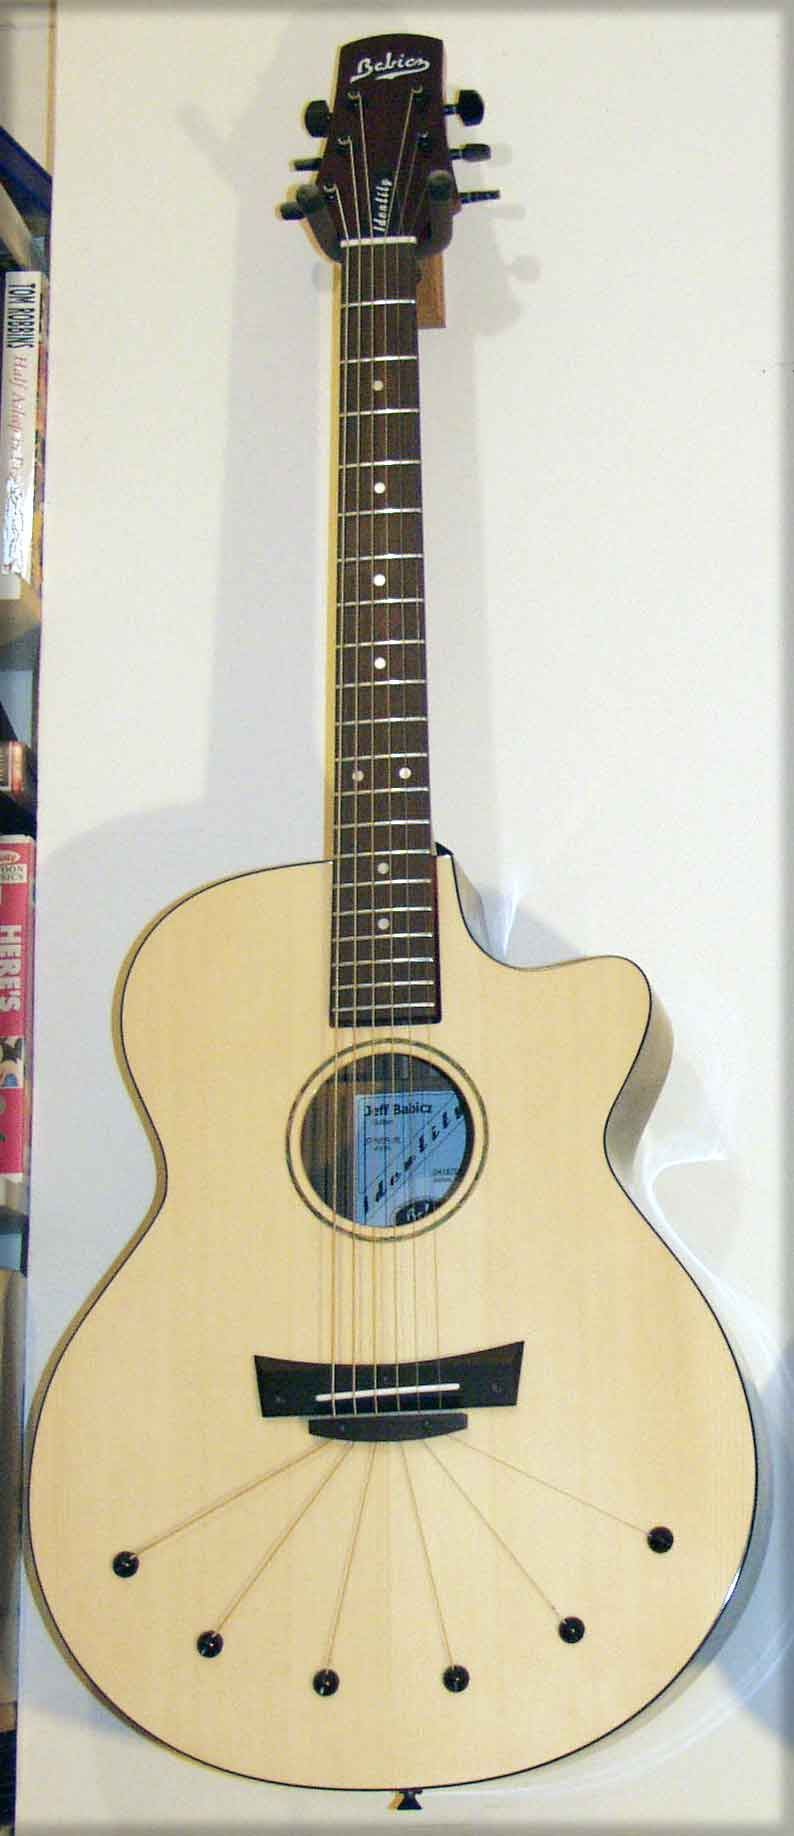guitar: (30, 26, 761, 1799)
